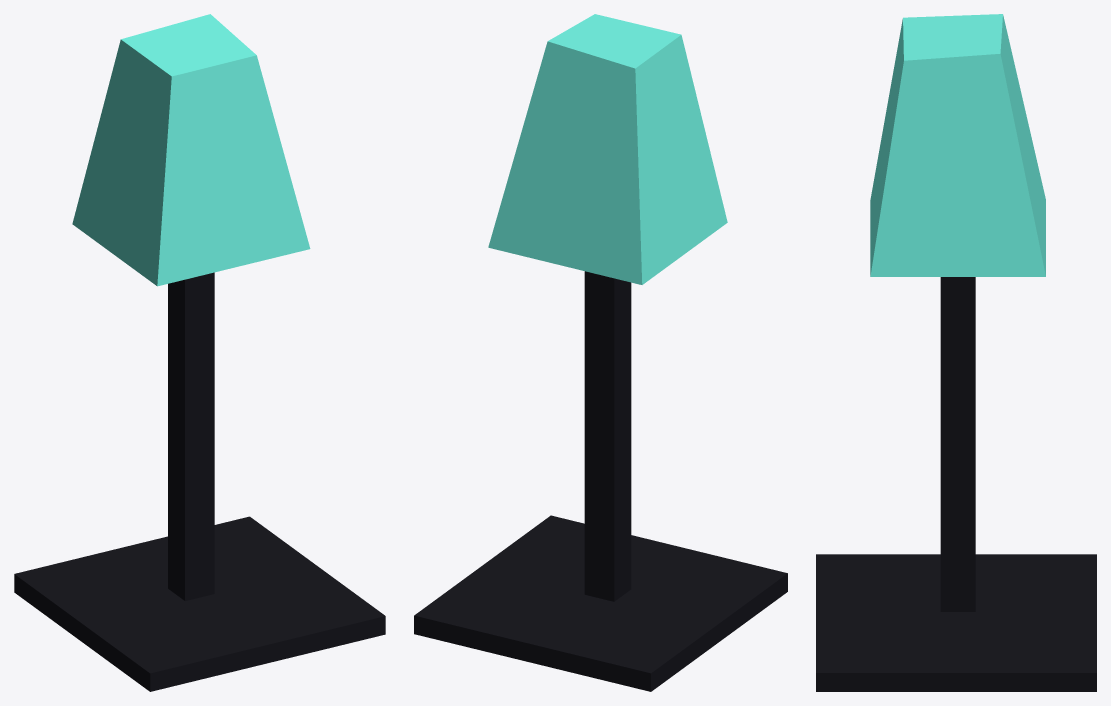
Rendered from lampara2.obj.
3 renders of one model, left to right at view 1: azimuth 30°, elevation 25°; view 2: azimuth 150°, elevation 25°; view 3: azimuth 270°, elevation 25°, orthographic. The views are drawn at different scales.
Visible parts, largest first — view 1: Cube.027, Cube.028, Cube.026; view 2: Cube.027, Cube.028, Cube.026; view 3: Cube.027, Cube.028, Cube.026.
Boxes of the visible parts, x1,y1,x2,y2 form: Cube.027: (72, 14, 310, 286); Cube.028: (14, 516, 385, 691); Cube.026: (168, 272, 214, 600); Cube.027: (488, 14, 727, 284); Cube.028: (414, 515, 787, 691); Cube.026: (584, 271, 631, 601); Cube.027: (870, 14, 1045, 276); Cube.028: (816, 554, 1096, 691); Cube.026: (940, 277, 975, 611).
Bounding box in the file's own units: 0.8 × 1.87 × 0.8.
